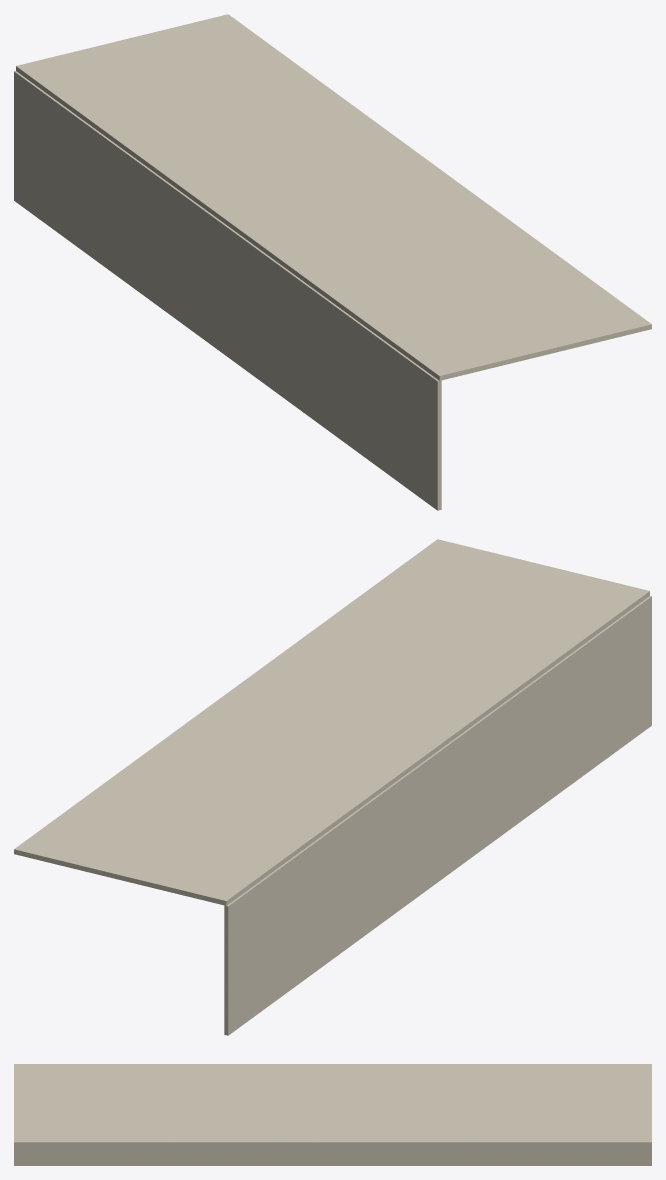
Rendered from SERVICE_D09_SF_inner_04__shell.glb.
3 views of the same model, one above another, from view 1: azimuth 30°, elevation 25°; view 2: azimuth 150°, elevation 25°; view 3: azimuth 270°, elevation 25° (orthographic). The views are drawn at different scales.
Parts seen in each view (by area): view 1: SERVICE_D09_SF_inner_04__shell__ivory_enamel; view 2: SERVICE_D09_SF_inner_04__shell__ivory_enamel; view 3: SERVICE_D09_SF_inner_04__shell__ivory_enamel.
Boxes of the visible parts, x1,y1,x2,y2 form: SERVICE_D09_SF_inner_04__shell__ivory_enamel: (14,14,651,510); SERVICE_D09_SF_inner_04__shell__ivory_enamel: (14,539,651,1035); SERVICE_D09_SF_inner_04__shell__ivory_enamel: (14,1064,651,1165).
Bounding box in the file's own units: 5.55 × 3.32 × 19.
Materials: 2 (1 with a texture image).
